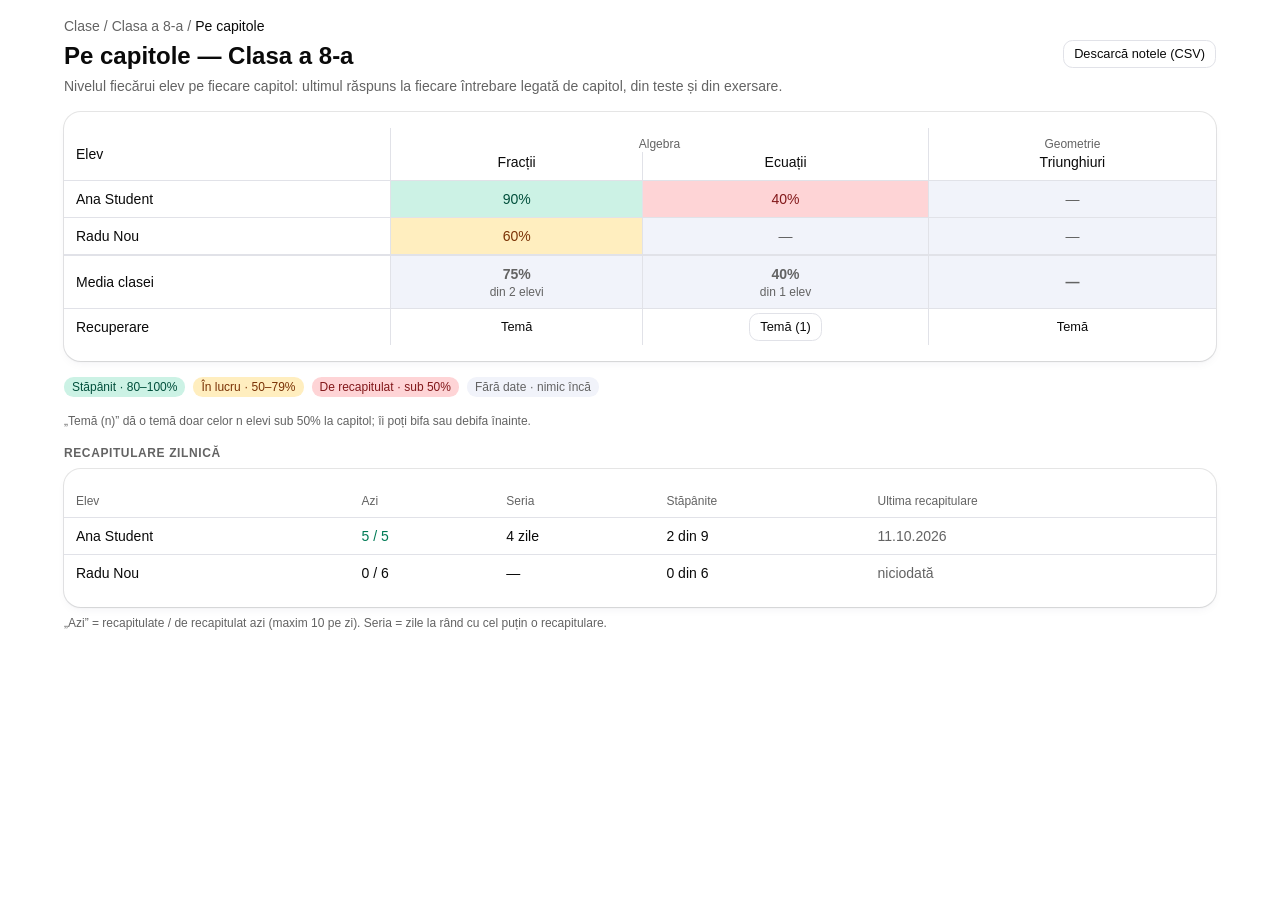
Scenario: AdminMasteryPage › gives catch-up homework to the students weak on a chapter, from its column
Click the button with aria-label "Temă de recuperare la Ecuații" at (786, 327), box [749,313,822,341]
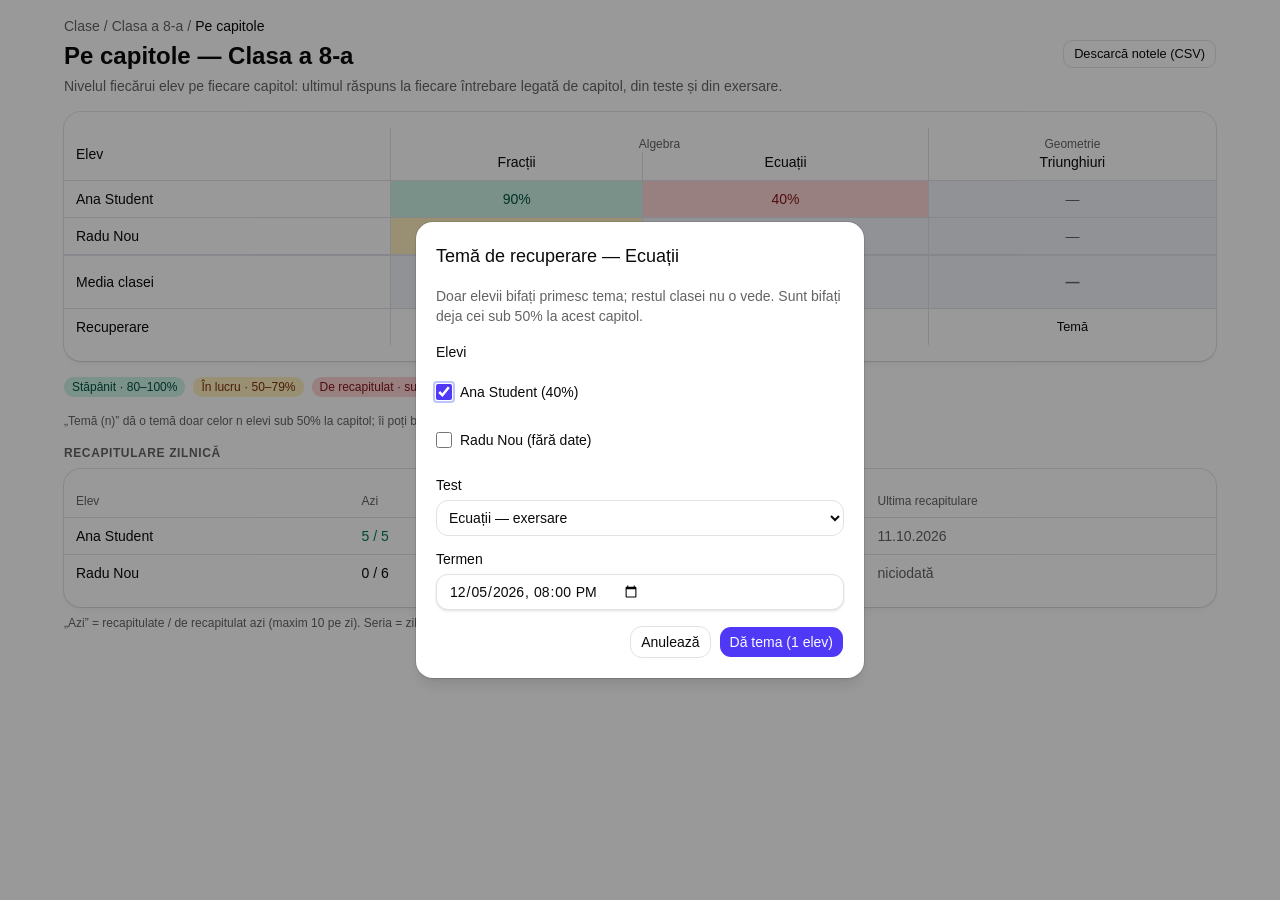
Expected: the checkbox labelled "Ana Student (40%)" is checked, [436,384,452,400]
Expected: the checkbox labelled "Radu Nou (fără date)" is not checked, [436,432,452,448]
Click the button "Dă tema (1 elev)" at (781, 642), box [718,626,844,658]
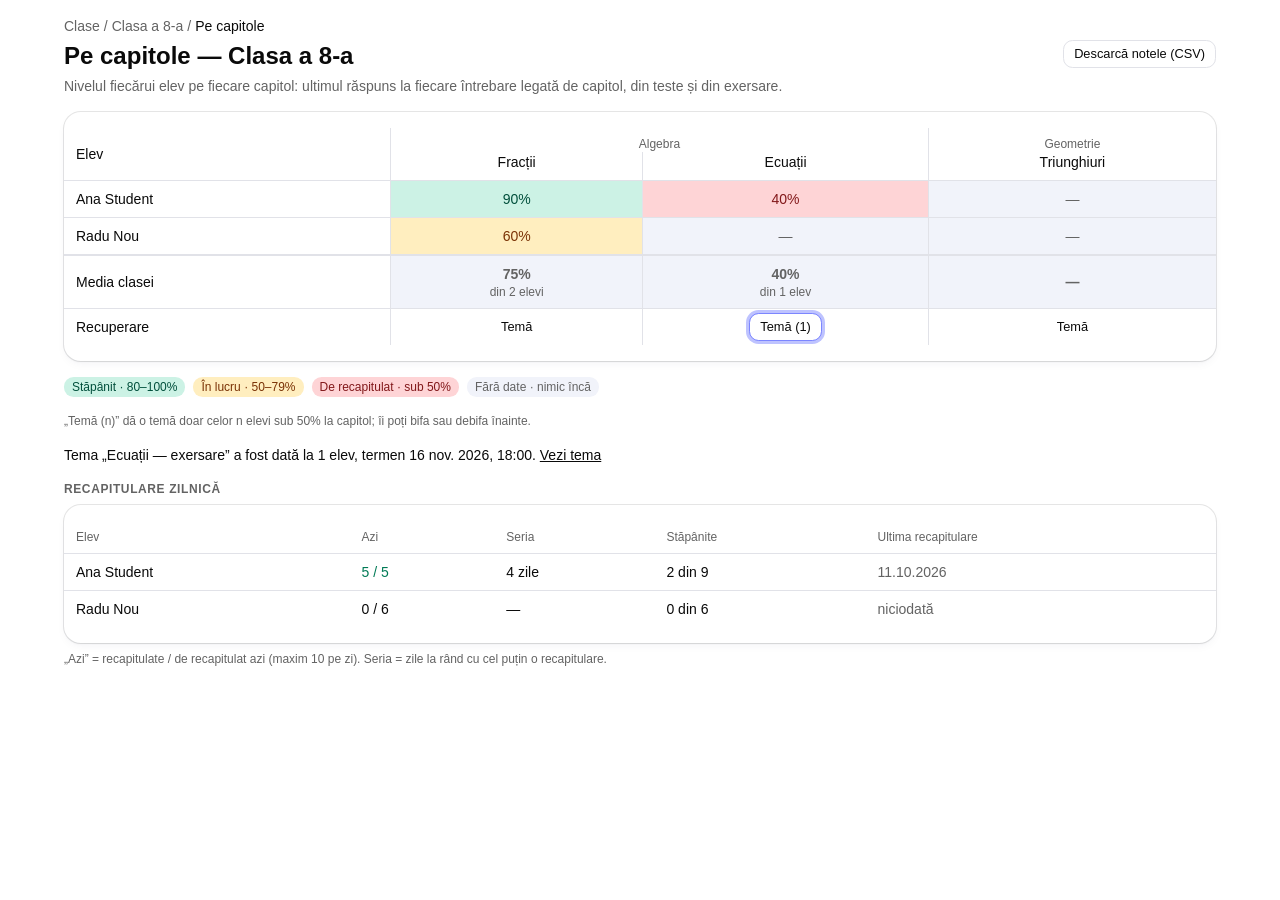
Expected: the message shows "Tema „Ecuații — exersare” a fost dată la 1 elev", [64,447,601,463]
